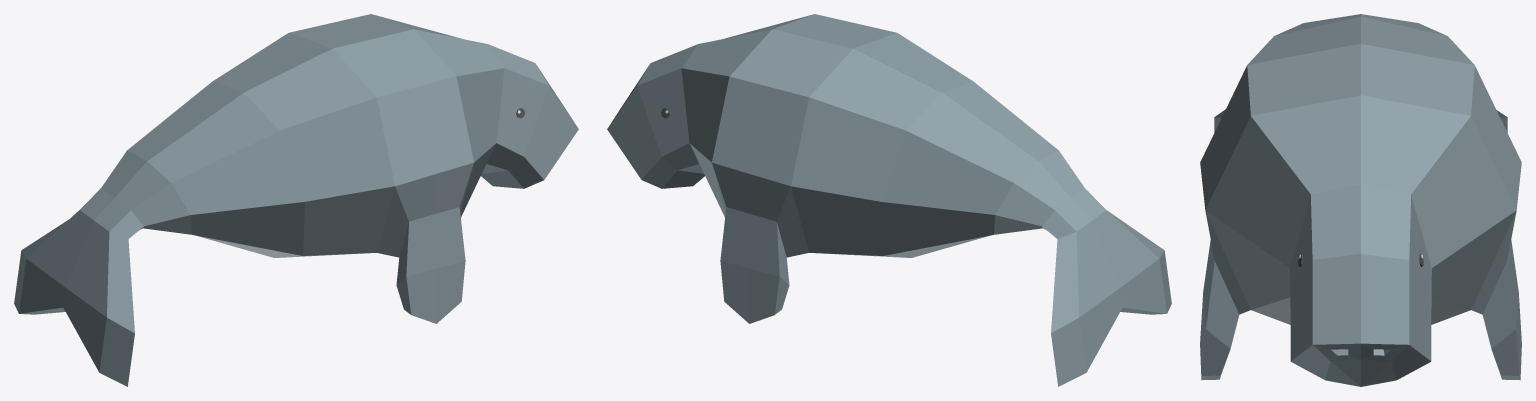
Rendered from animals-manatee-144.glb.
The picture shows the model from 3 angles, left to right: view 1: azimuth 30°, elevation 25°; view 2: azimuth 150°, elevation 25°; view 3: azimuth 270°, elevation 25°; orthographic projection. The views are drawn at different scales.
Visible parts, largest first — view 1: Manatee_Circle.002; view 2: Manatee_Circle.002; view 3: Manatee_Circle.002.
Part boxes in pixels (left/top/right/bottom): Manatee_Circle.002: left=14, top=14, right=578, bottom=386; Manatee_Circle.002: left=607, top=14, right=1171, bottom=386; Manatee_Circle.002: left=1200, top=14, right=1521, bottom=386.
Size of the model in its own units: 20.23 by 9.16 by 8.62.
